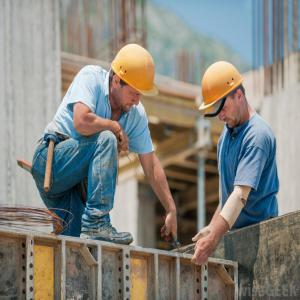yellow: (111, 42, 160, 115), (202, 62, 249, 127)
